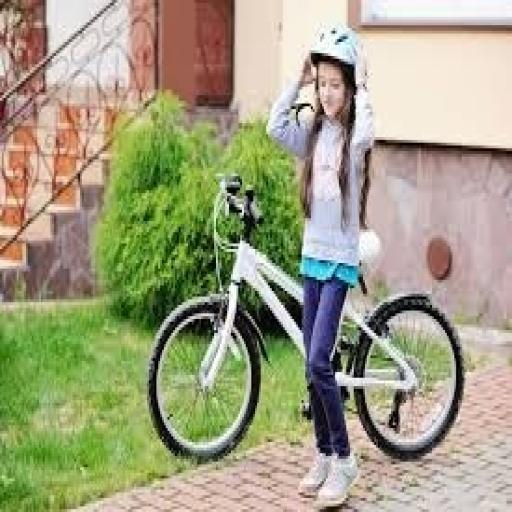cycling: (264, 20, 378, 509)
